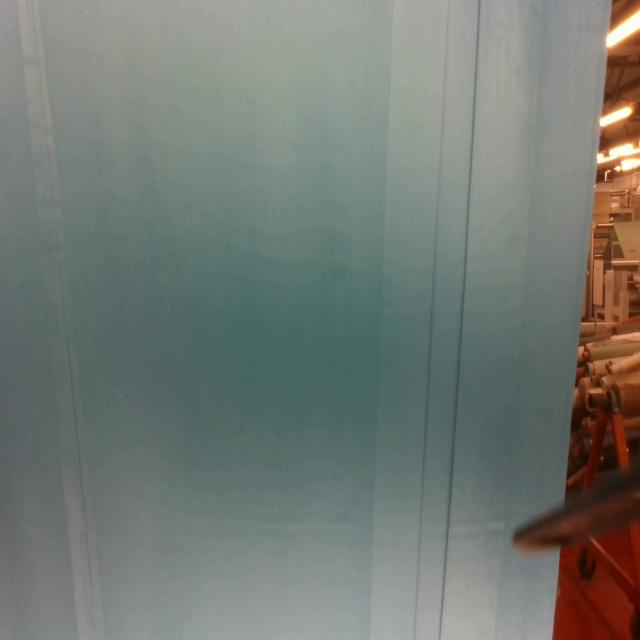crease: (22, 0, 102, 635), (412, 0, 483, 640)
